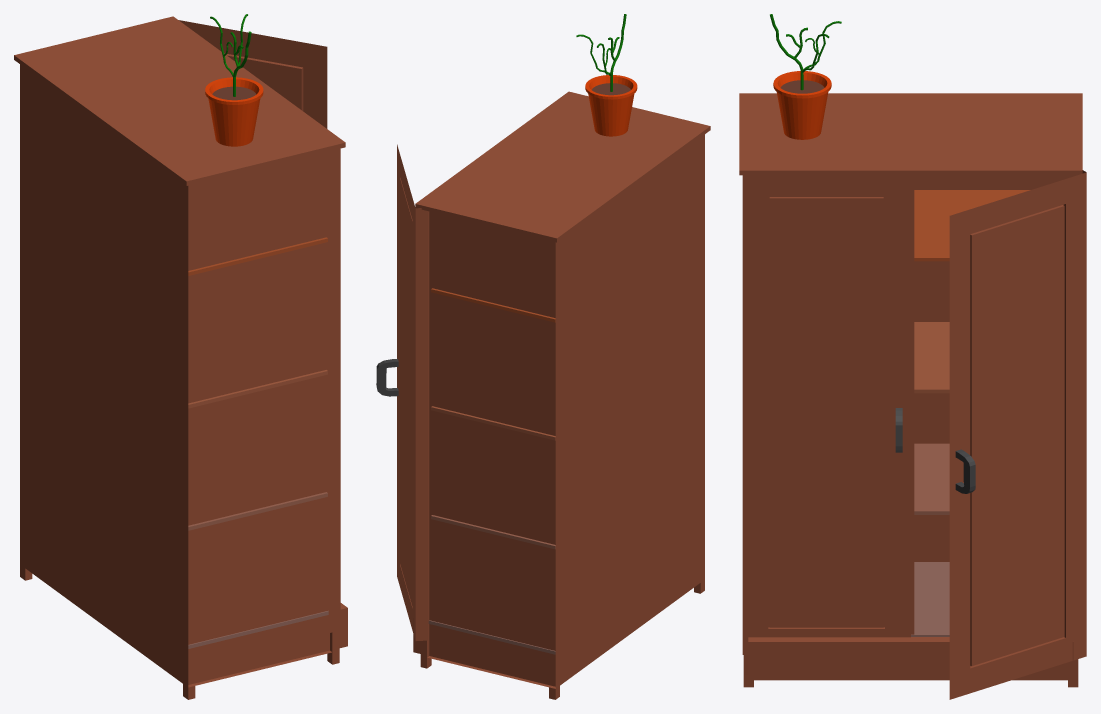
The model's file is cupboard.glb.
3 views of the same model, side by side, from view 1: azimuth 30°, elevation 25°; view 2: azimuth 150°, elevation 25°; view 3: azimuth 270°, elevation 25° (orthographic). The views are drawn at different scales.
Parts seen in each view (by area): view 1: cupboard, door2, door1, tob, tak3, tak1, tak2, tree, tak4; view 2: cupboard, door1, tob, tak3, tak2, tak1, tree, tak4, door1.001; view 3: door2, door1, cupboard, tak1, tob, tak4, tak3, tak2, tree, door1.001.
Part boxes in pixels (x1=…): cupboard: x1=14, y1=16, x2=347, y2=699; door2: x1=328, y1=148, x2=340, y2=632; door1: x1=179, y1=20, x2=327, y2=128; tob: x1=205, y1=77, x2=263, y2=146; tak3: x1=188, y1=492, x2=327, y2=530; tak1: x1=188, y1=237, x2=327, y2=275; tak2: x1=188, y1=370, x2=327, y2=408; tree: x1=210, y1=14, x2=251, y2=96; tak4: x1=188, y1=610, x2=328, y2=648; cupboard: x1=413, y1=91, x2=710, y2=699; door1: x1=397, y1=144, x2=427, y2=640; tob: x1=585, y1=75, x2=637, y2=136; tak3: x1=431, y1=515, x2=555, y2=549; tak2: x1=431, y1=406, x2=555, y2=440; tak1: x1=431, y1=288, x2=555, y2=322; tree: x1=576, y1=14, x2=626, y2=91; tak4: x1=428, y1=620, x2=555, y2=654; door1.001: x1=376, y1=359, x2=398, y2=396; door2: x1=742, y1=175, x2=914, y2=654; door1: x1=949, y1=170, x2=1086, y2=699; cupboard: x1=739, y1=93, x2=1082, y2=687; tak1: x1=914, y1=190, x2=1030, y2=261; tob: x1=773, y1=71, x2=831, y2=139; tak4: x1=911, y1=562, x2=949, y2=636; tak3: x1=914, y1=443, x2=949, y2=514; tak2: x1=914, y1=322, x2=949, y2=393; tree: x1=770, y1=14, x2=841, y2=90; door1.001: x1=955, y1=449, x2=975, y2=493.
Bounding box in the file's own units: 1.19 × 2.8 × 1.39.
